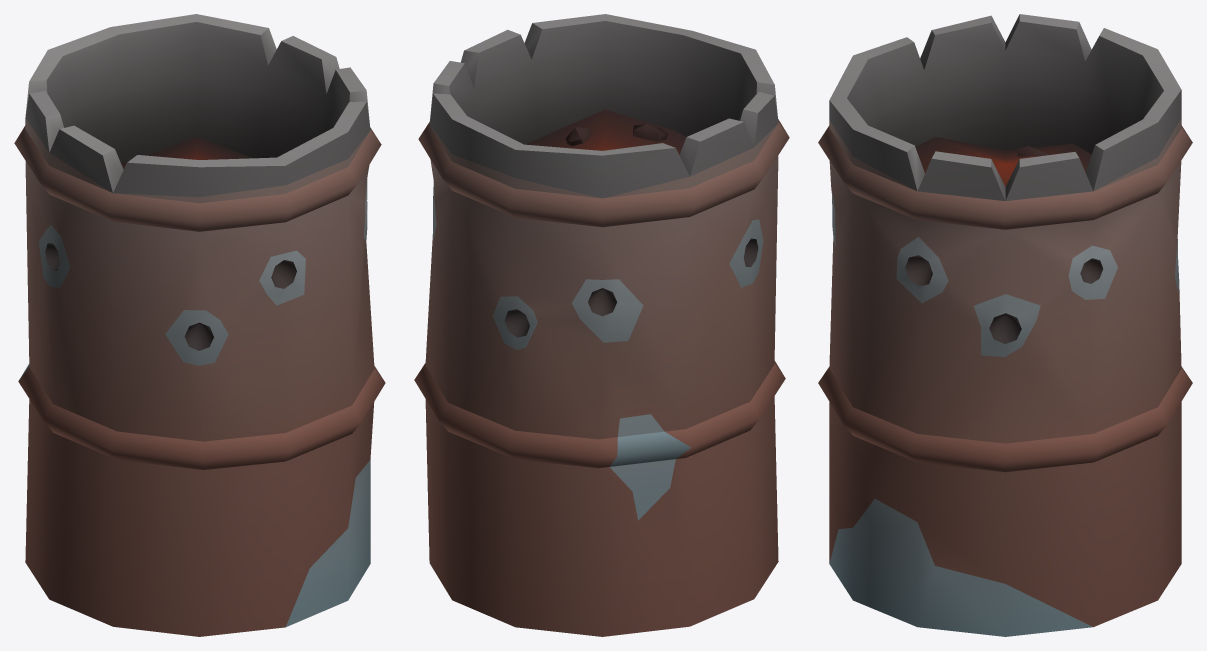
Rendered from Barbecue_Grill.fbx.
3 renders of one model, left to right at view 1: azimuth 30°, elevation 25°; view 2: azimuth 150°, elevation 25°; view 3: azimuth 270°, elevation 25°, orthographic.
Visible parts, largest first — view 1: Barbecue_Grill; view 2: Barbecue_Grill; view 3: Barbecue_Grill.
Part boxes in pixels (box(x1,y1,x2,y2)): Barbecue_Grill: box(14, 14, 385, 636); Barbecue_Grill: box(414, 14, 789, 636); Barbecue_Grill: box(818, 14, 1192, 636).
Size of the model in its own units: 51.36 by 51.76 by 72.94.
